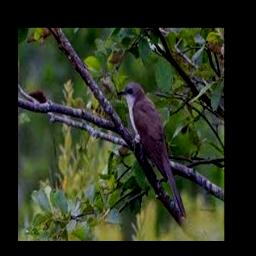Cuckoo: (118, 83, 187, 218)
